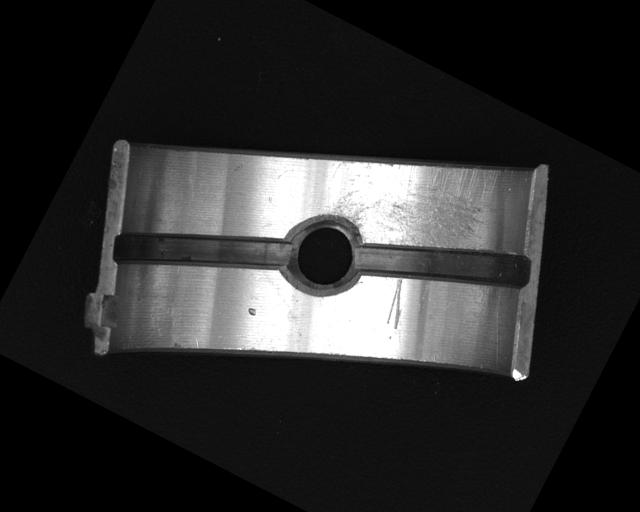bruise: (244, 303, 259, 317)
gap: (108, 171, 299, 332), (350, 187, 538, 342)
hole: (271, 201, 380, 308)
nick: (376, 276, 419, 331)
scratch: (319, 105, 507, 283)
